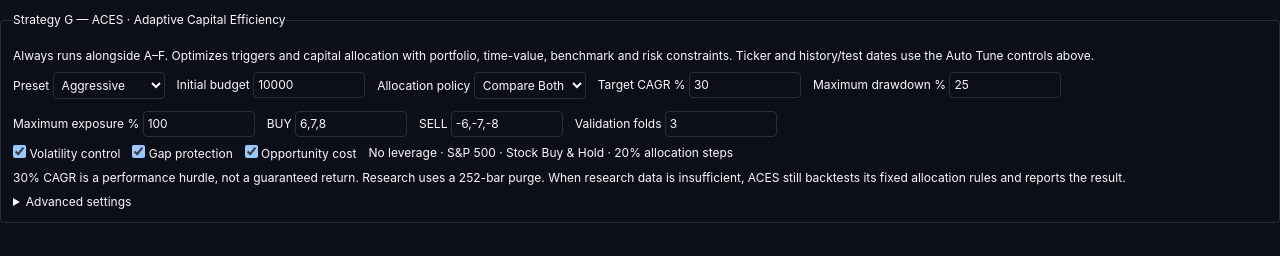
it: independent Strategy G setup › blocks invalid thresholds and lets presets populate risk inputs
Select "Conservative" in the dropdown labelled "Preset": (109, 86) [53,72,165,99]
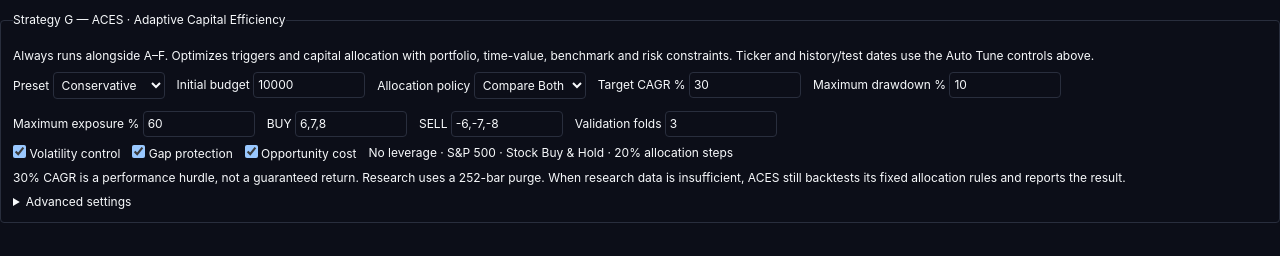
Replace the text in the field labelled "BUY" with "-6": (351, 124) [295,111,407,137]
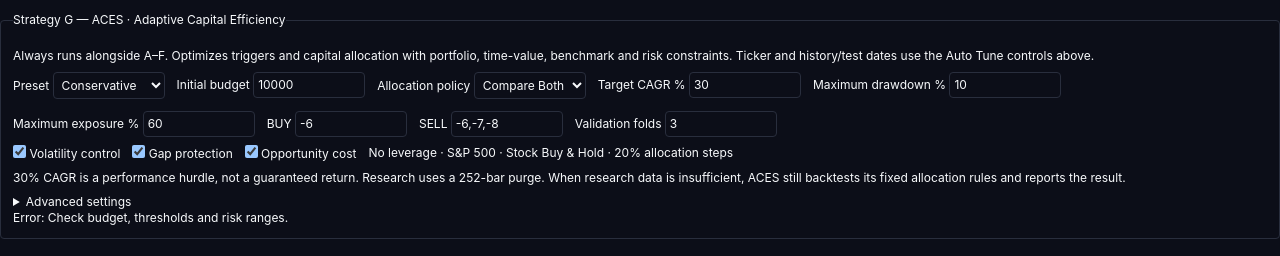
Now the message "Error: Check budget, thresholds and risk ranges." is shown, box [13,210,288,225]
